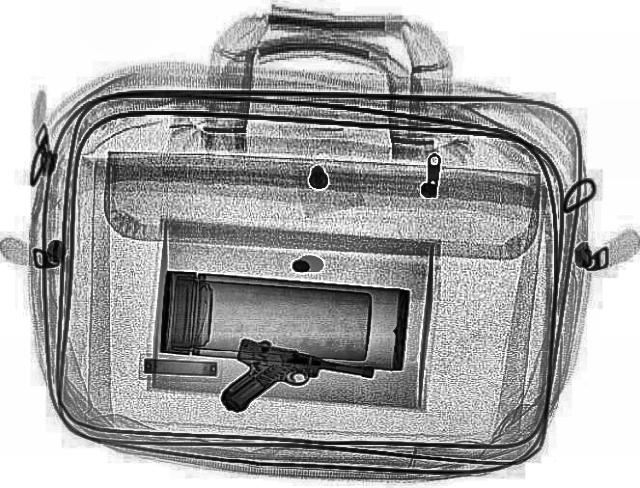Gun: (208, 334, 378, 436)
